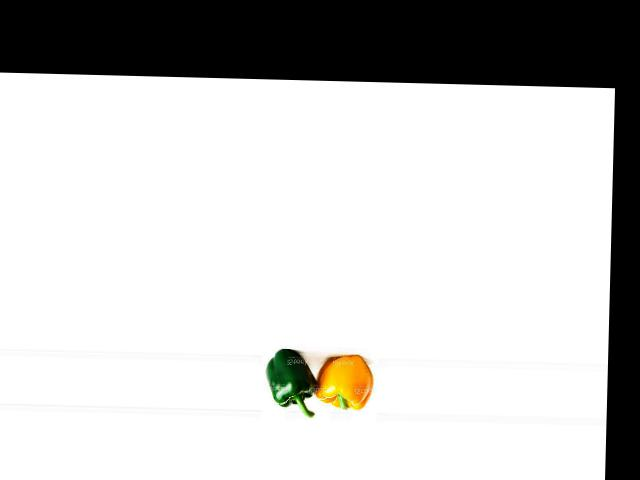bell_pepper: (260, 340, 317, 411)
